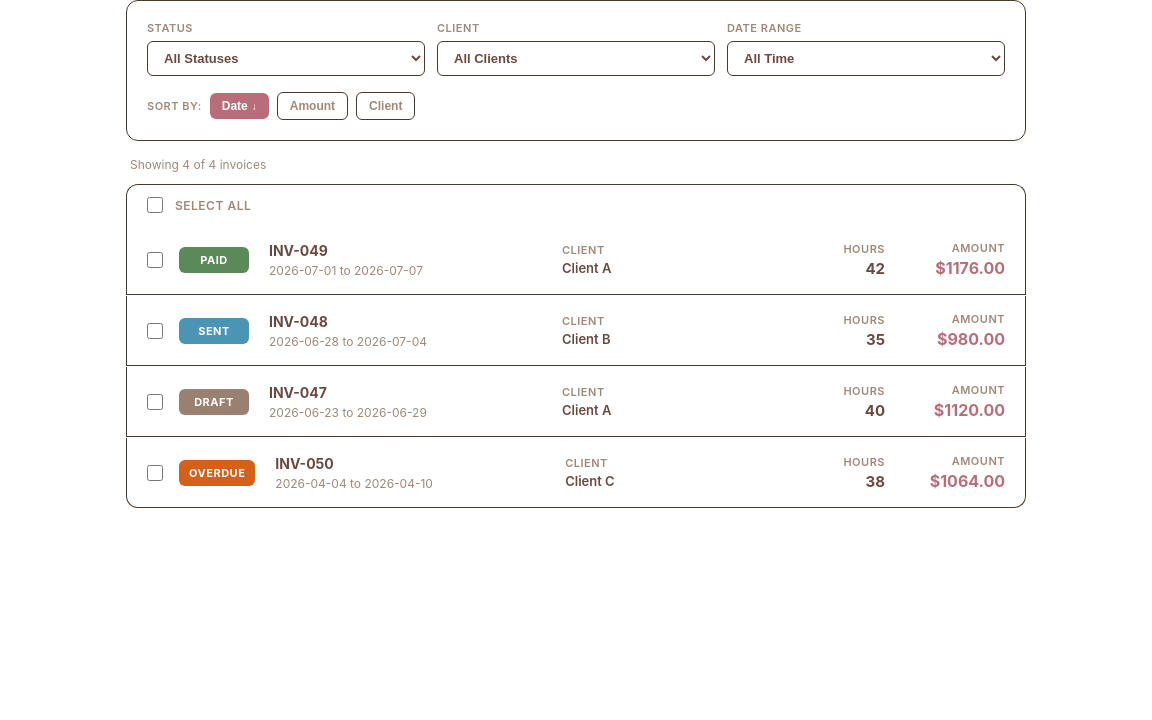
Scenario: ListView › selects all invoices with select-all checkbox
Click the checkbox next to "Select All" at (155, 205), box [147,197,163,213]
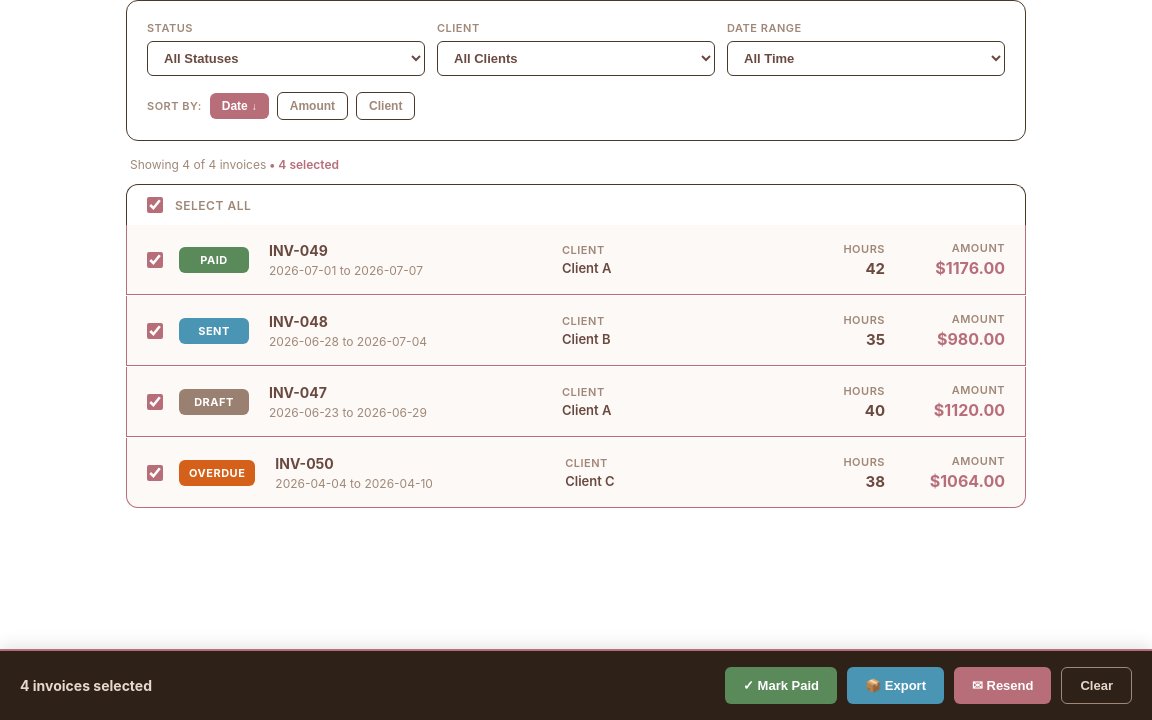
Expected: the text "4 invoices selected" is shown, [20,677,152,694]
